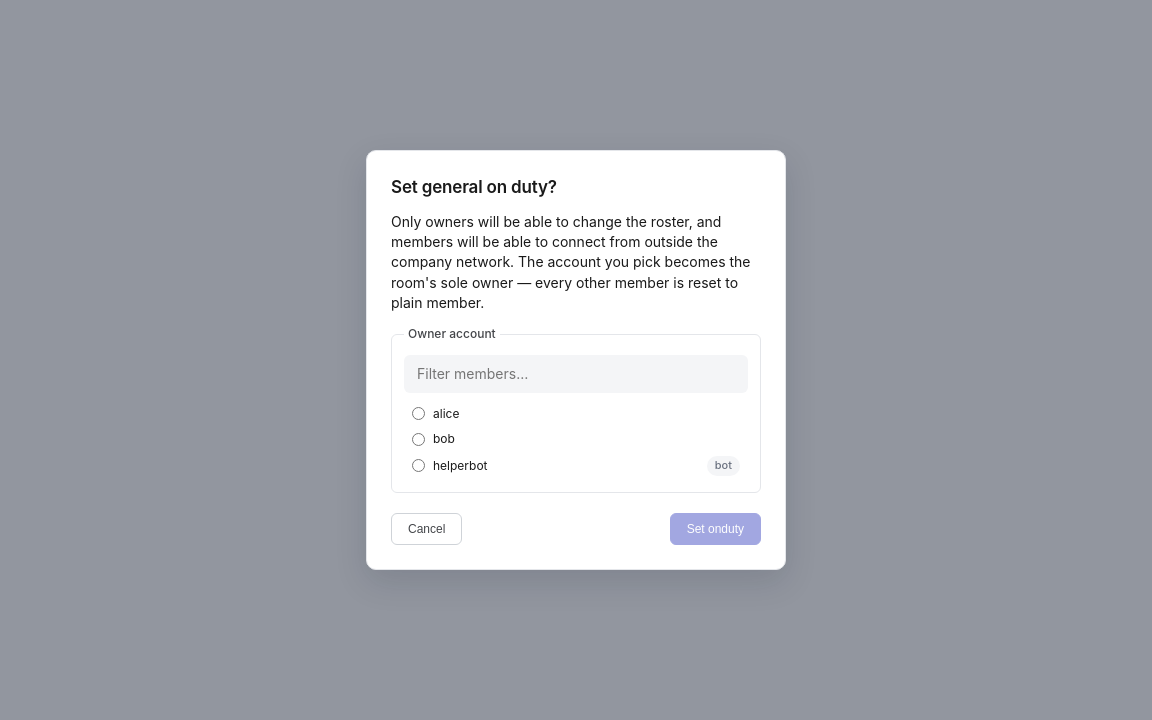
Test: SetOnDutyDialog › keeps confirm disabled until an owner is chosen
Expected: the button "Set onduty" is disabled, [670,513,761,545]
Click the radio button labelled "alice" at (418, 414), box [412,407,425,420]
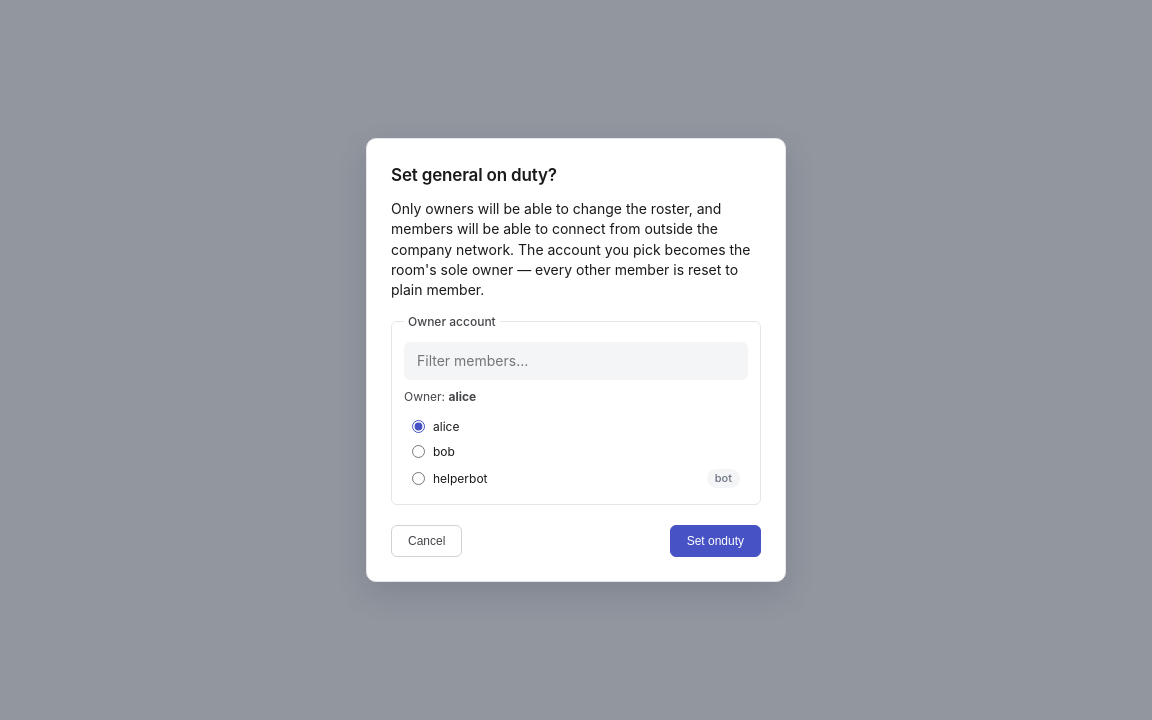
Expected: the button "Set onduty" is enabled, [670,526,761,558]
